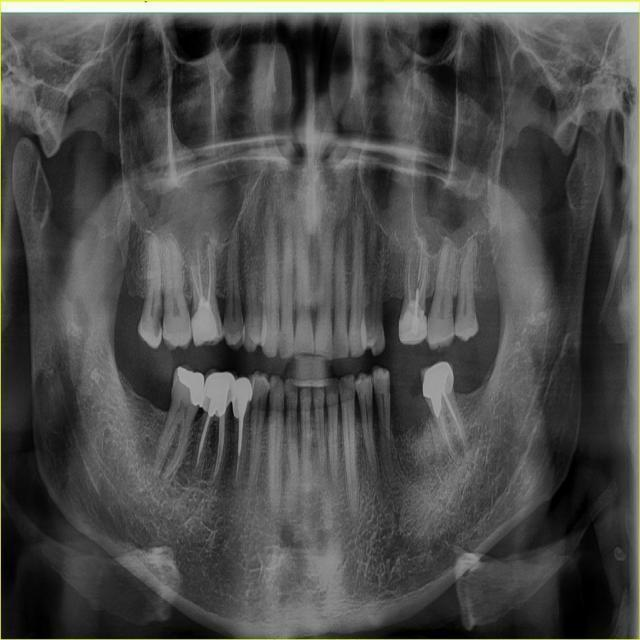Caries: (152, 302, 162, 338), (162, 305, 167, 334), (386, 376, 390, 395)
Crown: (202, 372, 236, 412), (420, 362, 454, 399), (231, 374, 253, 417)
Filling: (191, 295, 219, 346), (178, 366, 204, 407), (208, 398, 227, 416), (412, 315, 419, 334)
Missing teeth: (391, 371, 431, 436), (381, 296, 406, 353)
Root Canal Treatment: (196, 412, 211, 468), (439, 410, 456, 457), (213, 414, 225, 478), (190, 243, 203, 299), (419, 262, 427, 300), (455, 419, 465, 446), (207, 245, 211, 303), (418, 240, 422, 284), (408, 254, 411, 301), (235, 456, 240, 480)
